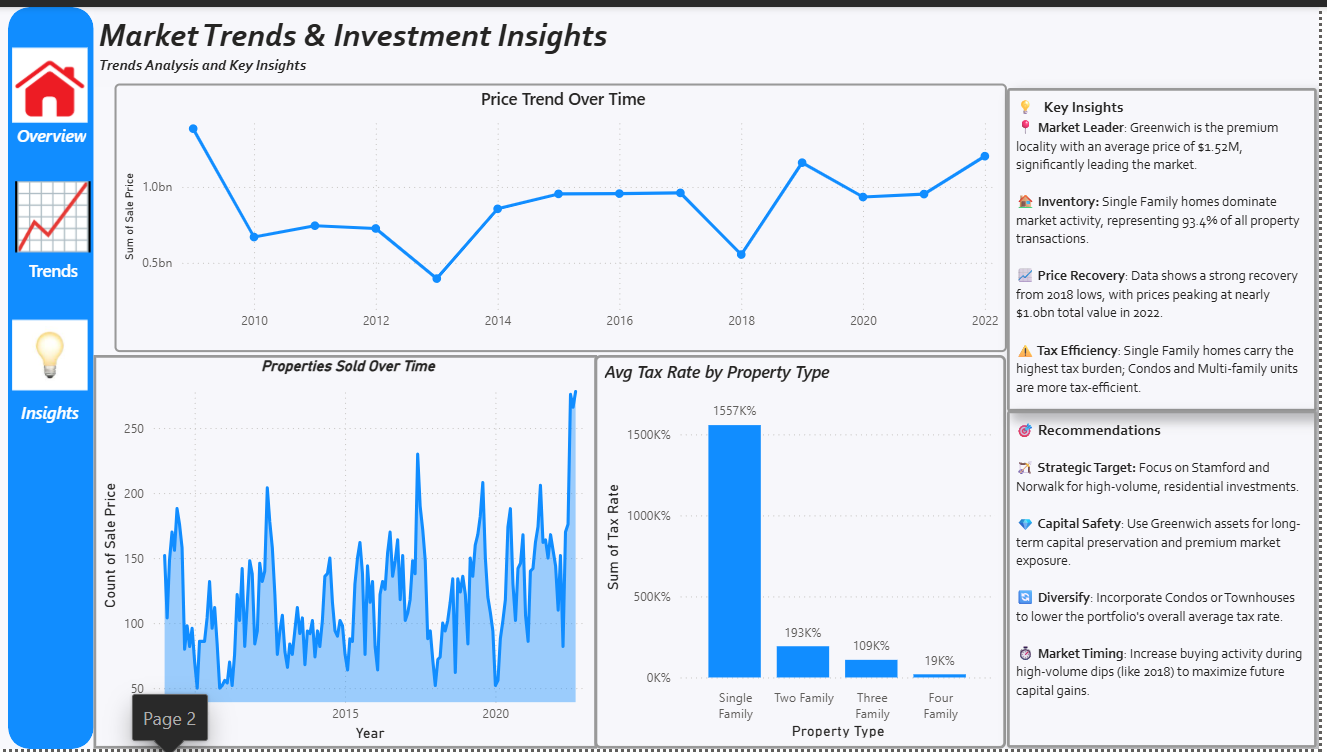

This screenshot's page, from the dashboard's own definition file:
{"tool":"powerbi","page":{"name":"Page 2","canvas":[1280,720],"ordinal":1},"visuals":[{"type":"shape","box":[9.4,0,83.2,720],"z":1000},{"type":"actionButton","box":[9.4,15.1,81.3,122.8],"z":2000},{"type":"actionButton","box":[11.3,138,81.3,130.4],"z":3000},{"type":"actionButton","box":[9.4,268.3,81.3,139.8],"z":4000},{"type":"textbox","box":[91.4,1.9,1180.4,76.2],"z":5000},{"type":"lineChart","title":"Price Trend Over Time","fields":{"Category":["public cleaned_real_estate_data.Sale Date.Variation.Date Hierarchy.Year","public cleaned_real_estate_data.Sale Date.Variation.Date Hierarchy.Month"],"Y":["Sum(public cleaned_real_estate_data.Sale Price)"]},"box":[112.3,74.2,866.2,260.8],"z":6000},{"type":"columnChart","title":"Avg Tax Rate by Property Type","fields":{"Category":["public cleaned_real_estate_data.Property Type"],"Y":["Sum(public cleaned_real_estate_data.Tax Rate)"]},"box":[578.6,338,399.1,381.9],"z":7000},{"type":"areaChart","title":"Properties Sold Over Time","fields":{"Y":["CountNonNull(public cleaned_real_estate_data.Sale Price)"],"Category":["public cleaned_real_estate_data.Sale Date.Variation.Date Hierarchy.Year","public cleaned_real_estate_data.Sale Date.Variation.Date Hierarchy.Month"]},"box":[111.5,338.3,468.7,381.7],"z":8000},{"type":"textbox","box":[978.6,78.1,300.8,314.1],"z":9000},{"type":"textbox","box":[978.6,392.2,300.8,327.5],"z":10000}]}

Visuals, with their boxes in screenshot pixels (x1, y1, x2, y2):
shape: 10/3/95/740
actionButton: 10/19/93/144
actionButton: 12/145/95/278
actionButton: 10/278/93/421
textbox: 93/5/1300/83
"Price Trend Over Time" lineChart: 115/79/1000/346
"Avg Tax Rate by Property Type" columnChart: 592/349/1000/739
"Properties Sold Over Time" areaChart: 114/349/593/740
textbox: 1001/83/1308/404
textbox: 1001/404/1308/739
